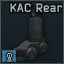KAC Folding Micro rear sight: (0, 0, 64, 64)
